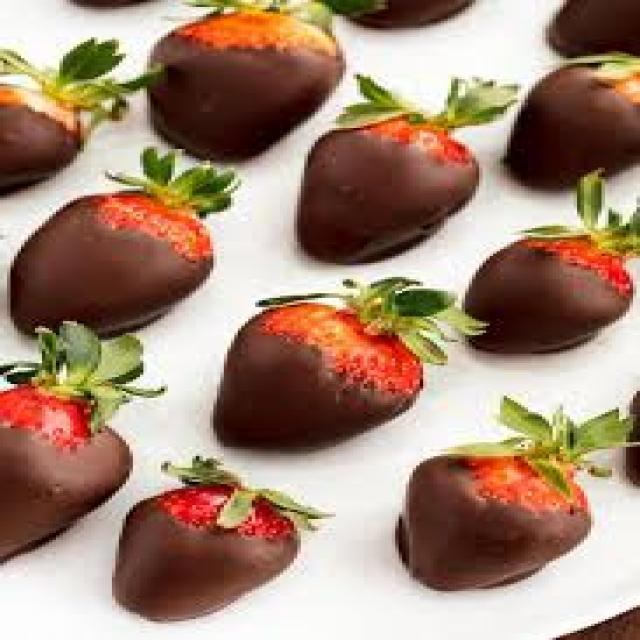Strawberry: (392, 391, 636, 591), (209, 274, 486, 450), (7, 144, 238, 338), (294, 72, 518, 263), (0, 319, 164, 568), (109, 454, 332, 622), (458, 165, 637, 354), (144, 0, 346, 161), (0, 34, 157, 195), (500, 48, 637, 186)
